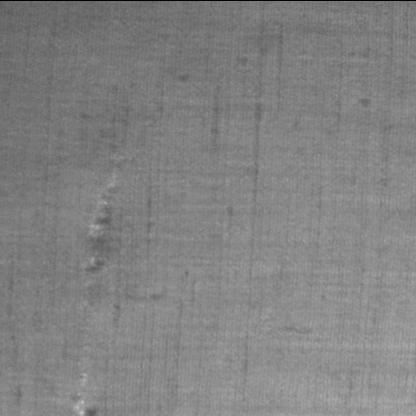thread error: (78, 168, 119, 289)
